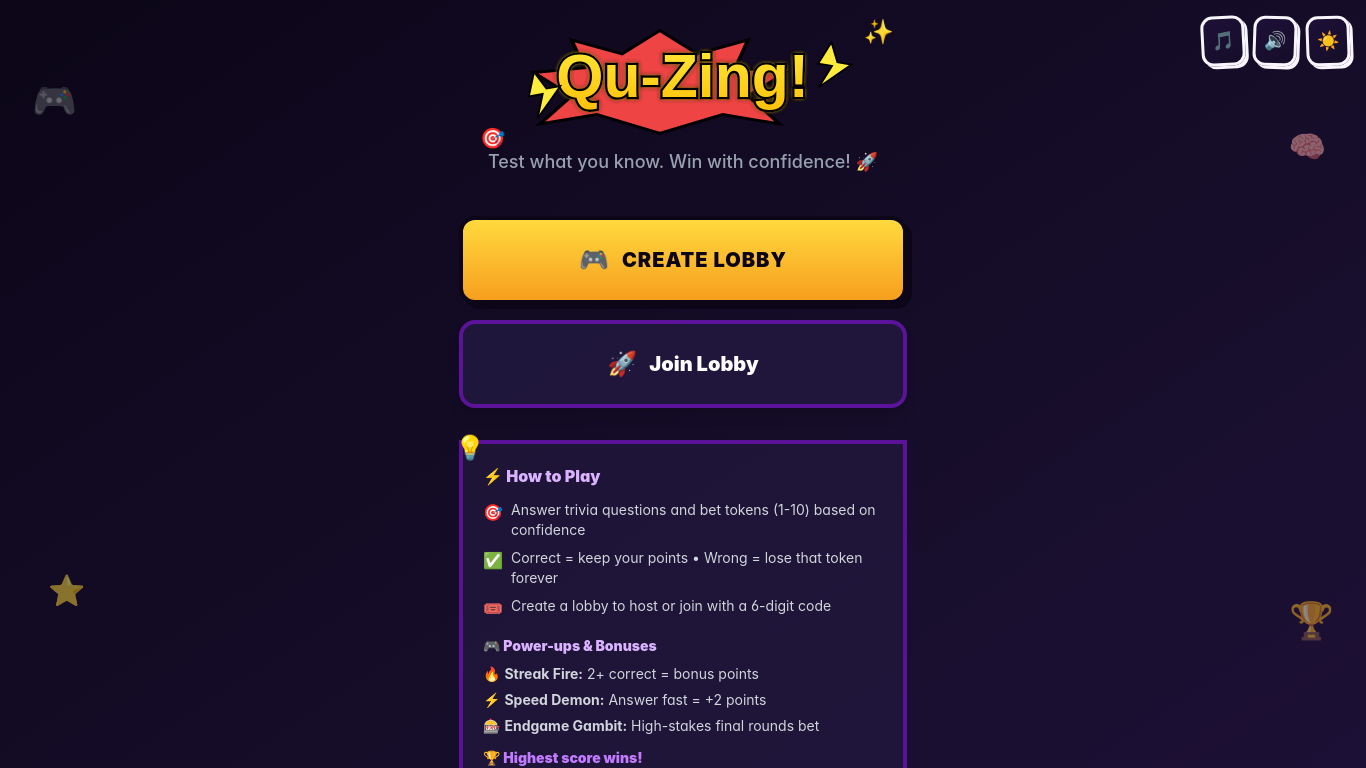
BrowserLobby Component › Join Mode › should display error message when join fails with Error object
Click the button "🚀 Join Lobby" at (683, 364), box [459,320,907,408]
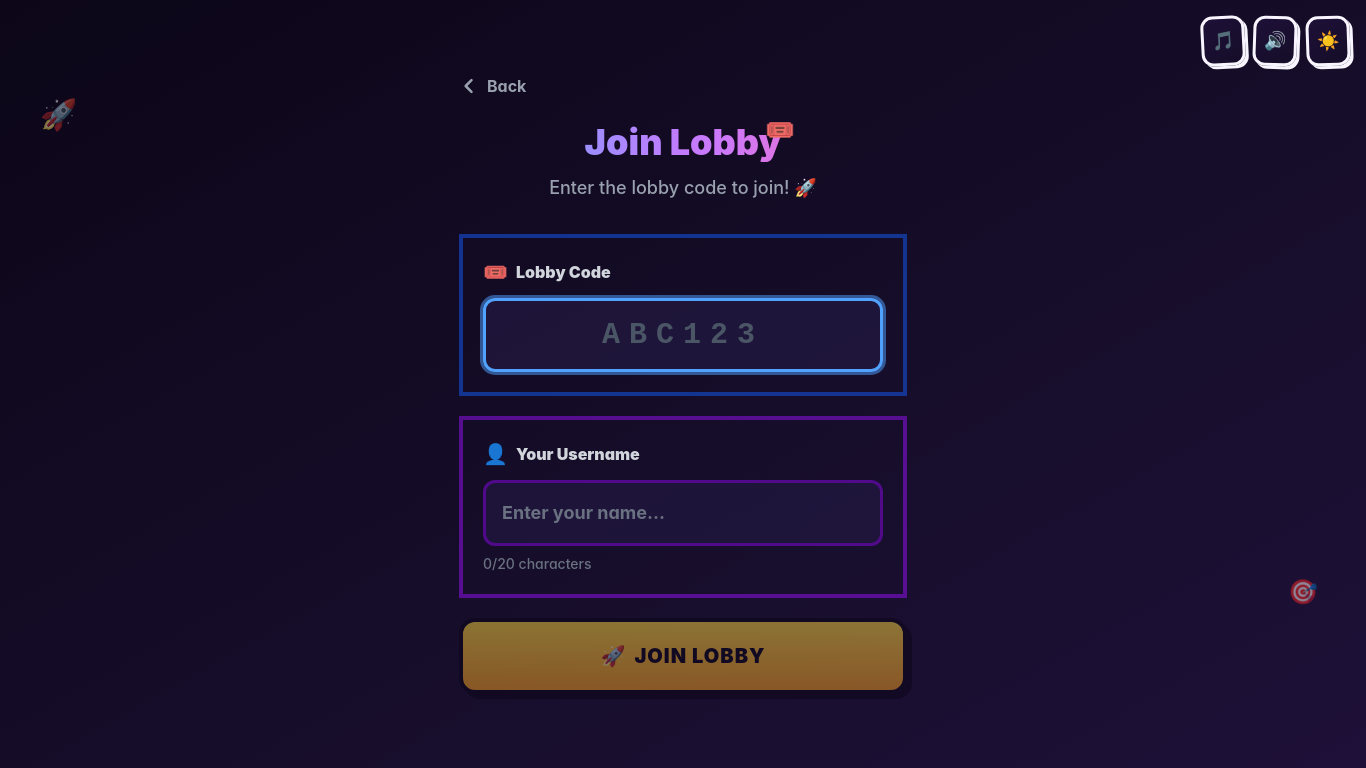
Type "BADCODE" into the field with placeholder "ABC123" at (683, 335), box [483,298,883,372]
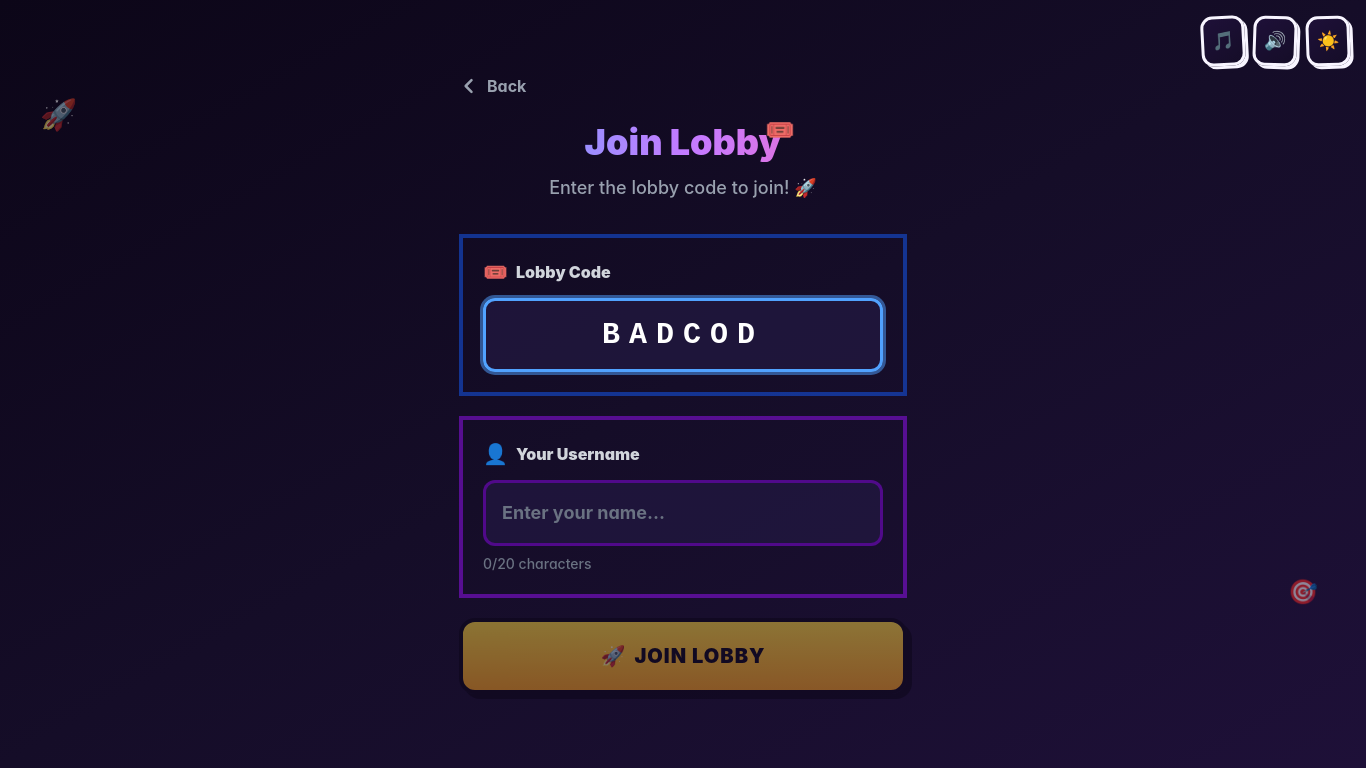
Type "Player" into the field with placeholder "Enter your name..." at (683, 513), box [483,480,883,546]
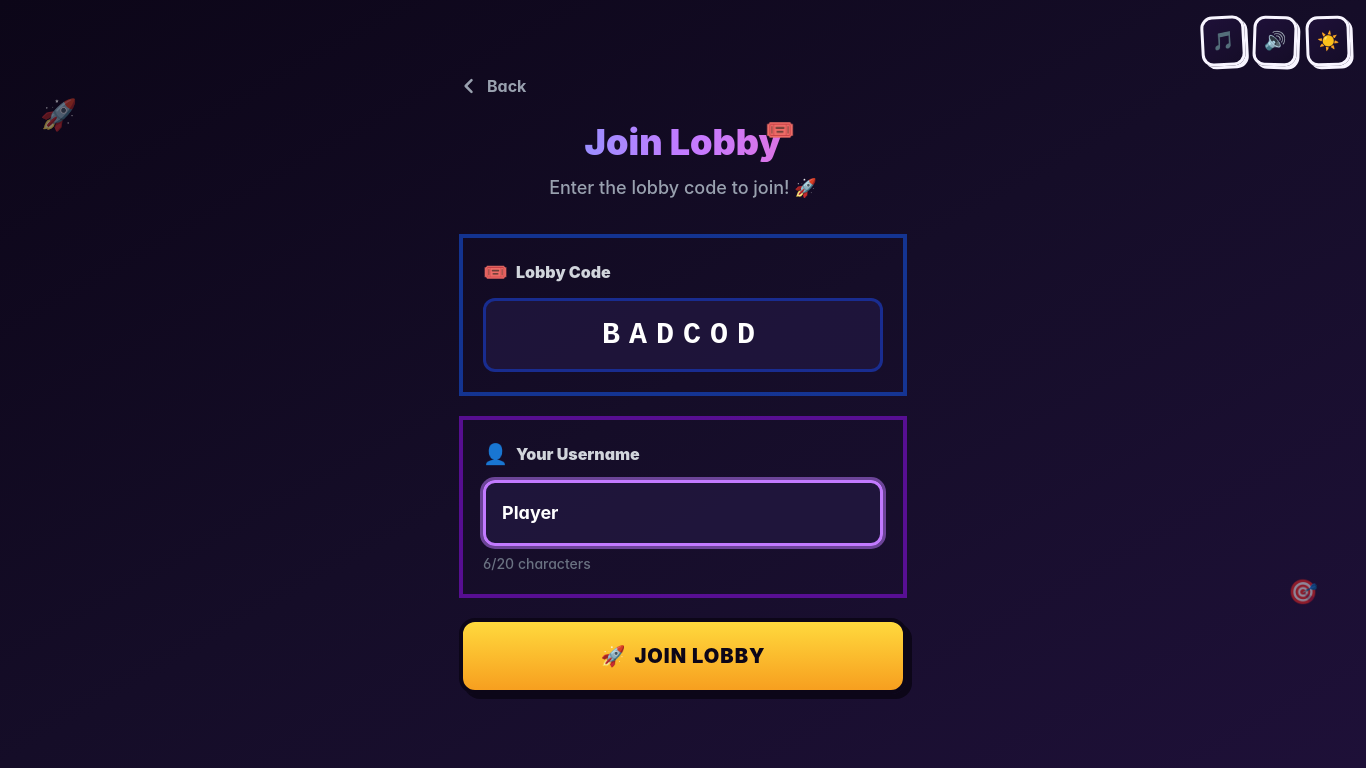
Click the button "🚀 Join Lobby" at (683, 656), box [459,618,907,694]
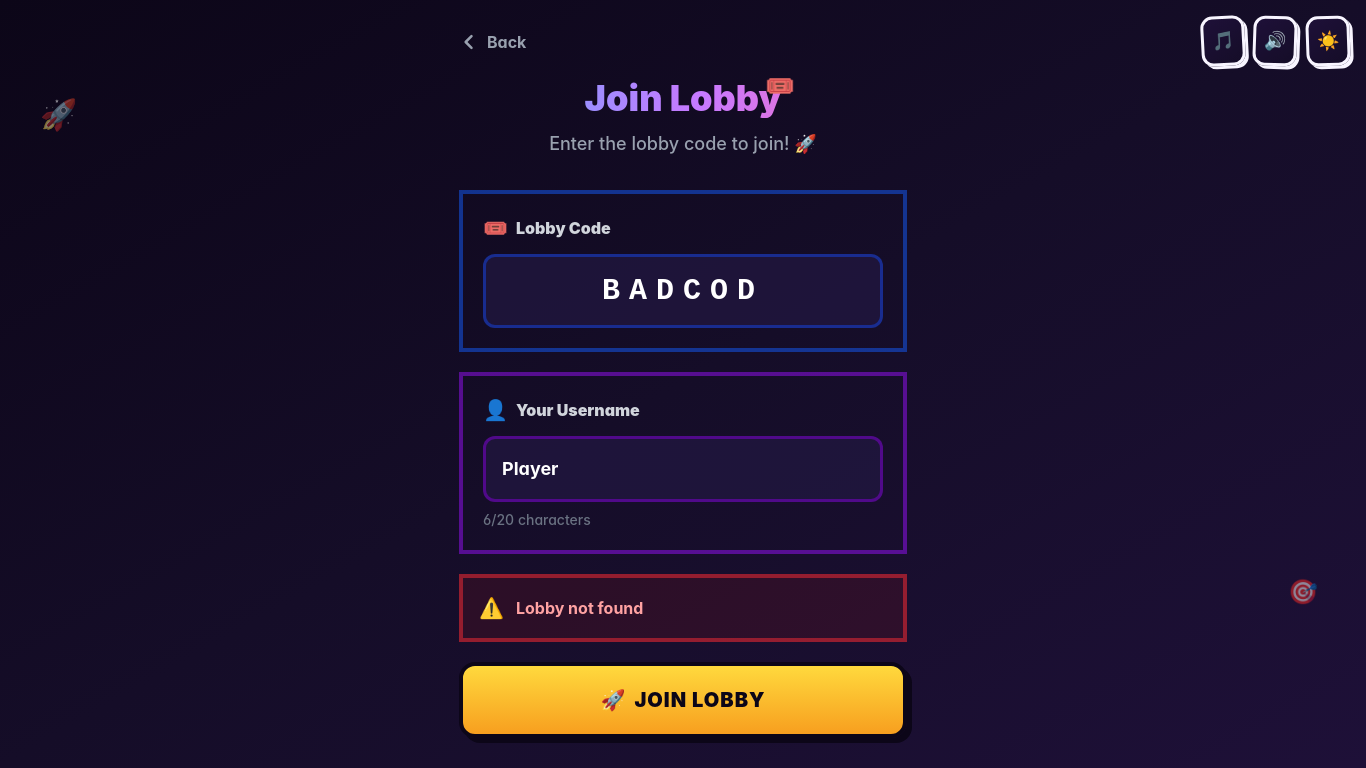
expect the text "Lobby not found" is shown: met, box [516,598,643,618]
